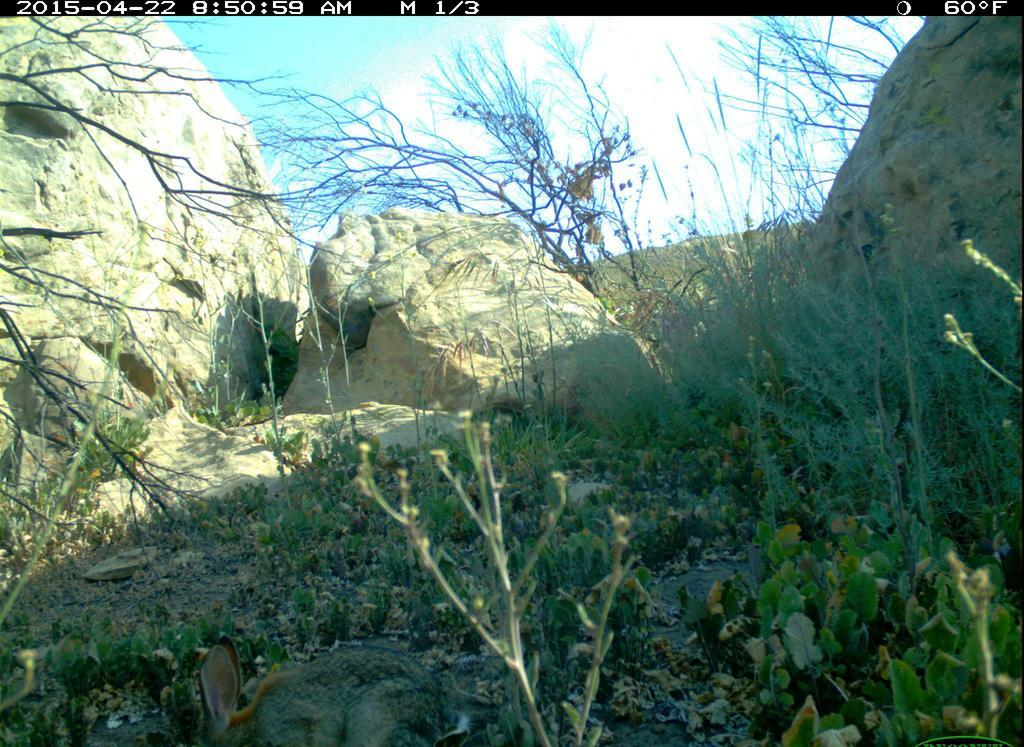rabbit: (191, 633, 473, 747)
